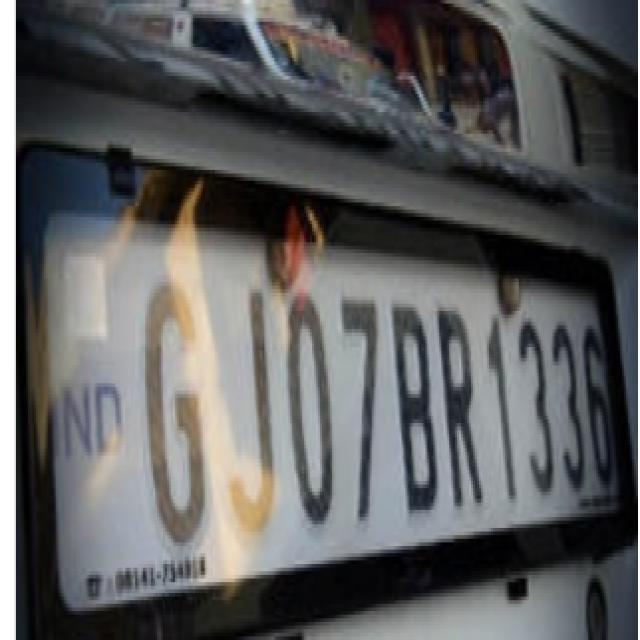0: (286, 268, 336, 540)
1: (487, 300, 525, 506)
3: (546, 314, 594, 500), (516, 309, 561, 506)
6: (576, 314, 619, 489)
7: (339, 287, 383, 527)
B: (390, 298, 438, 516)
G: (139, 266, 212, 548)
J: (221, 276, 279, 536)
R: (440, 302, 486, 515)
